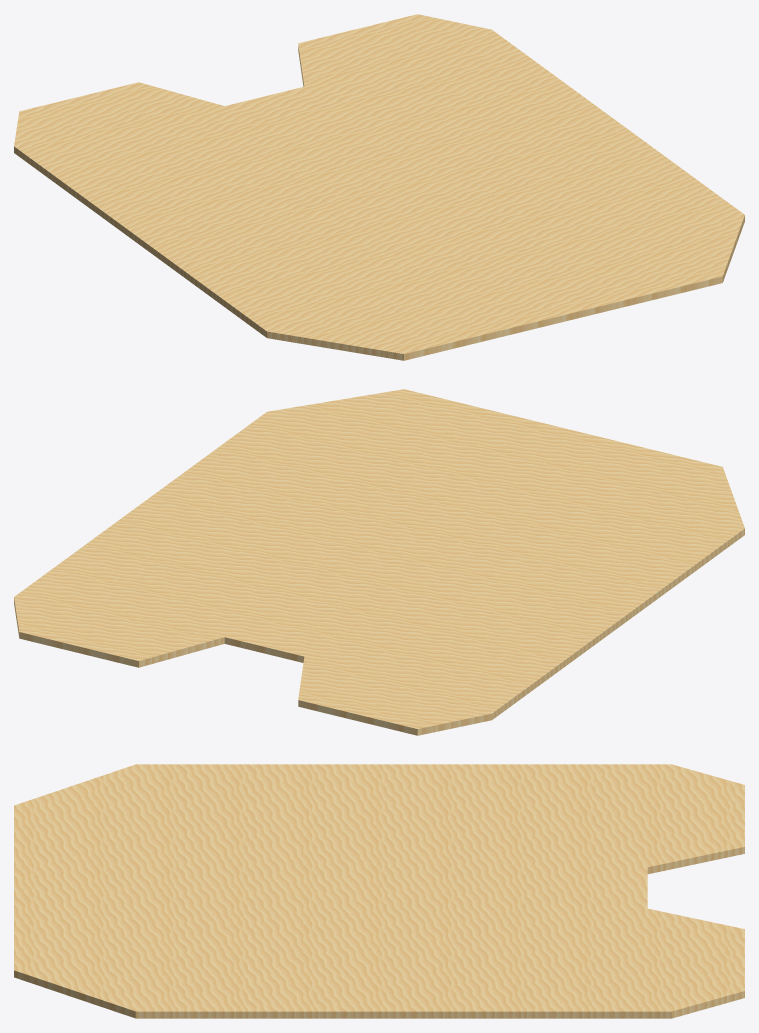
Rendered from seabed-06-DDPmhOYA.glb.
The picture shows the model from 3 angles, top to bottom: view 1: azimuth 30°, elevation 25°; view 2: azimuth 150°, elevation 25°; view 3: azimuth 270°, elevation 25°; orthographic projection. The views are drawn at different scales.
Parts seen in each view (by area): view 1: SW_SandShelf; view 2: SW_SandShelf; view 3: SW_SandShelf.
Boxes of the visible parts, x1,y1,x2,y2 form: SW_SandShelf: (14, 14, 744, 360); SW_SandShelf: (14, 389, 744, 735); SW_SandShelf: (14, 764, 744, 1018).
Size of what is drawn, in the model's own units: 24 by 0.32 by 30.
1 material, 1 textured.
